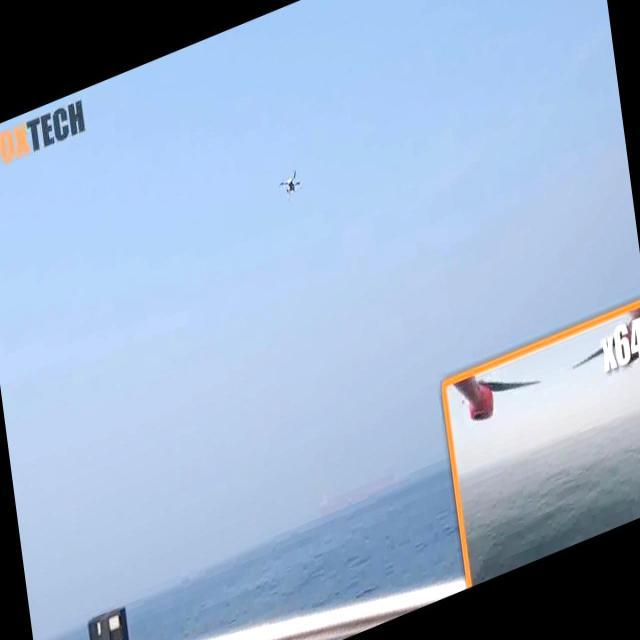drone: (276, 164, 305, 202)
